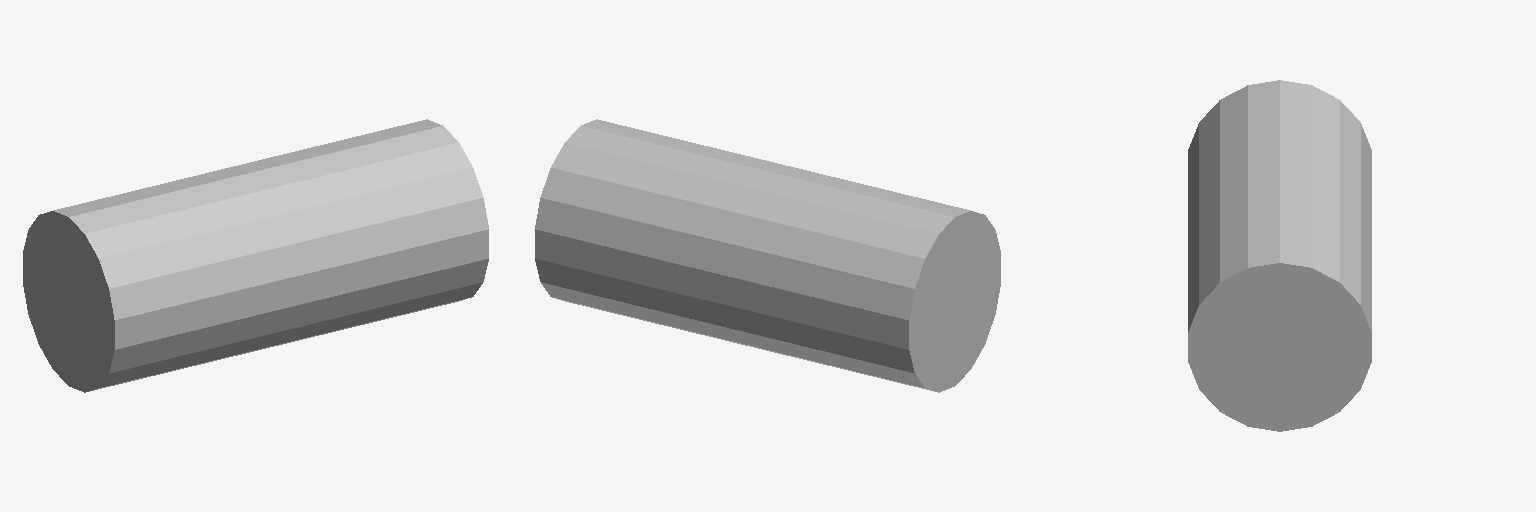
Rendered from pipe.obj.
3 renders of one model, left to right at view 1: azimuth 30°, elevation 25°; view 2: azimuth 150°, elevation 25°; view 3: azimuth 270°, elevation 25°, orthographic.
Visible parts, largest first — view 1: __.8; view 2: __.8; view 3: __.8.
Part boxes in pixels (left/top/right/bottom): __.8: left=23, top=119, right=488, bottom=392; __.8: left=535, top=119, right=1000, bottom=392; __.8: left=1188, top=80, right=1371, bottom=431.
Bounding box in the file's own units: 182 × 78.28 × 77.09.